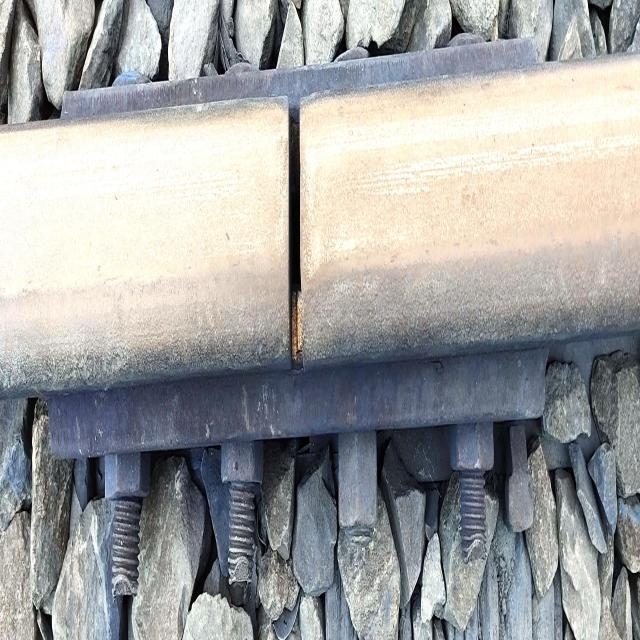Good Joint: (59, 74, 547, 575)
